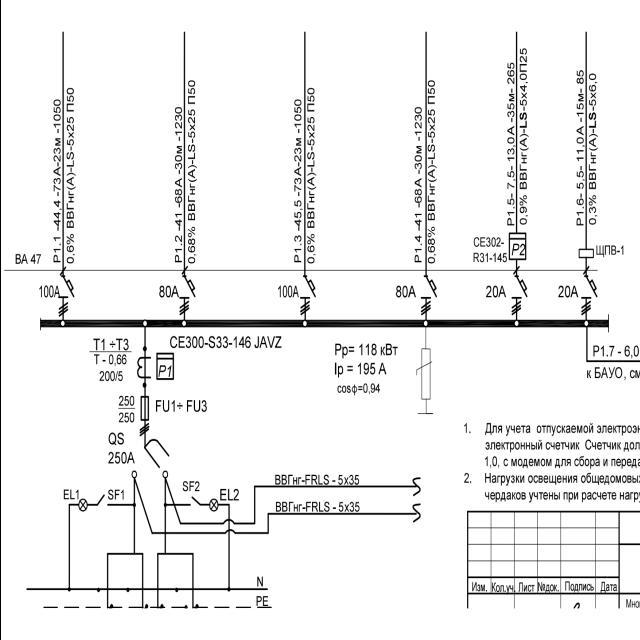-: (331, 339, 398, 394), (166, 332, 282, 348), (90, 353, 132, 387), (469, 234, 508, 264), (116, 394, 137, 426), (104, 450, 134, 467), (35, 282, 62, 300), (274, 282, 300, 300), (392, 284, 418, 300), (484, 282, 507, 299), (556, 284, 580, 300), (157, 284, 179, 300)
FU: (138, 392, 150, 422)
FV: (413, 344, 433, 402)
HL: (208, 498, 218, 512), (78, 498, 88, 512)
QF: (419, 273, 437, 317), (579, 274, 597, 316), (509, 275, 527, 317), (298, 274, 316, 316), (58, 274, 74, 318), (179, 274, 195, 316)
QS: (186, 494, 202, 510), (94, 494, 110, 508)
TT: (136, 354, 152, 381)
WH: (154, 351, 174, 381), (508, 230, 527, 260)
switch: (131, 436, 175, 482)
